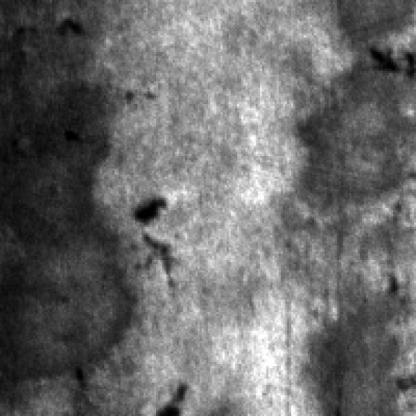inclusion: (135, 187, 185, 256), (366, 37, 416, 79)
patches: (2, 0, 132, 374), (291, 0, 416, 218), (310, 268, 416, 412)
